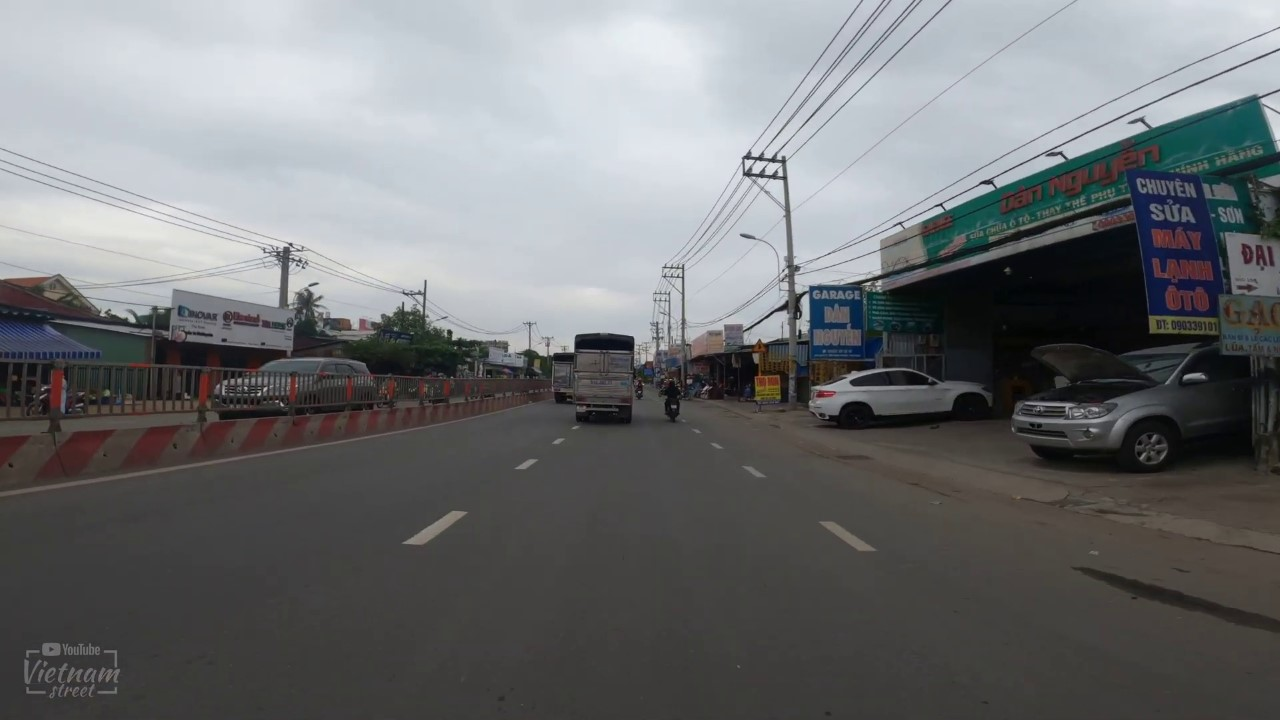giao_khong_uu_tien_phai: (751, 338, 767, 353)
